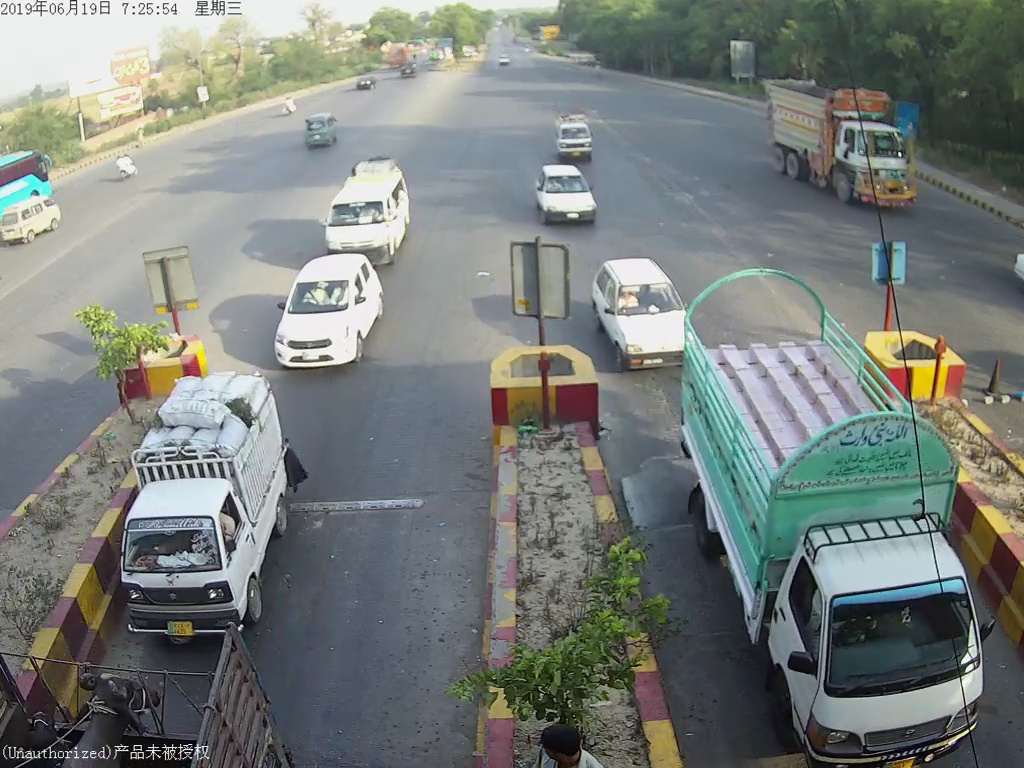Cat-1: (119, 388, 298, 622), (271, 255, 386, 360), (605, 260, 679, 366), (533, 166, 600, 226)
Cat-2: (686, 259, 1000, 762), (326, 160, 417, 248)
